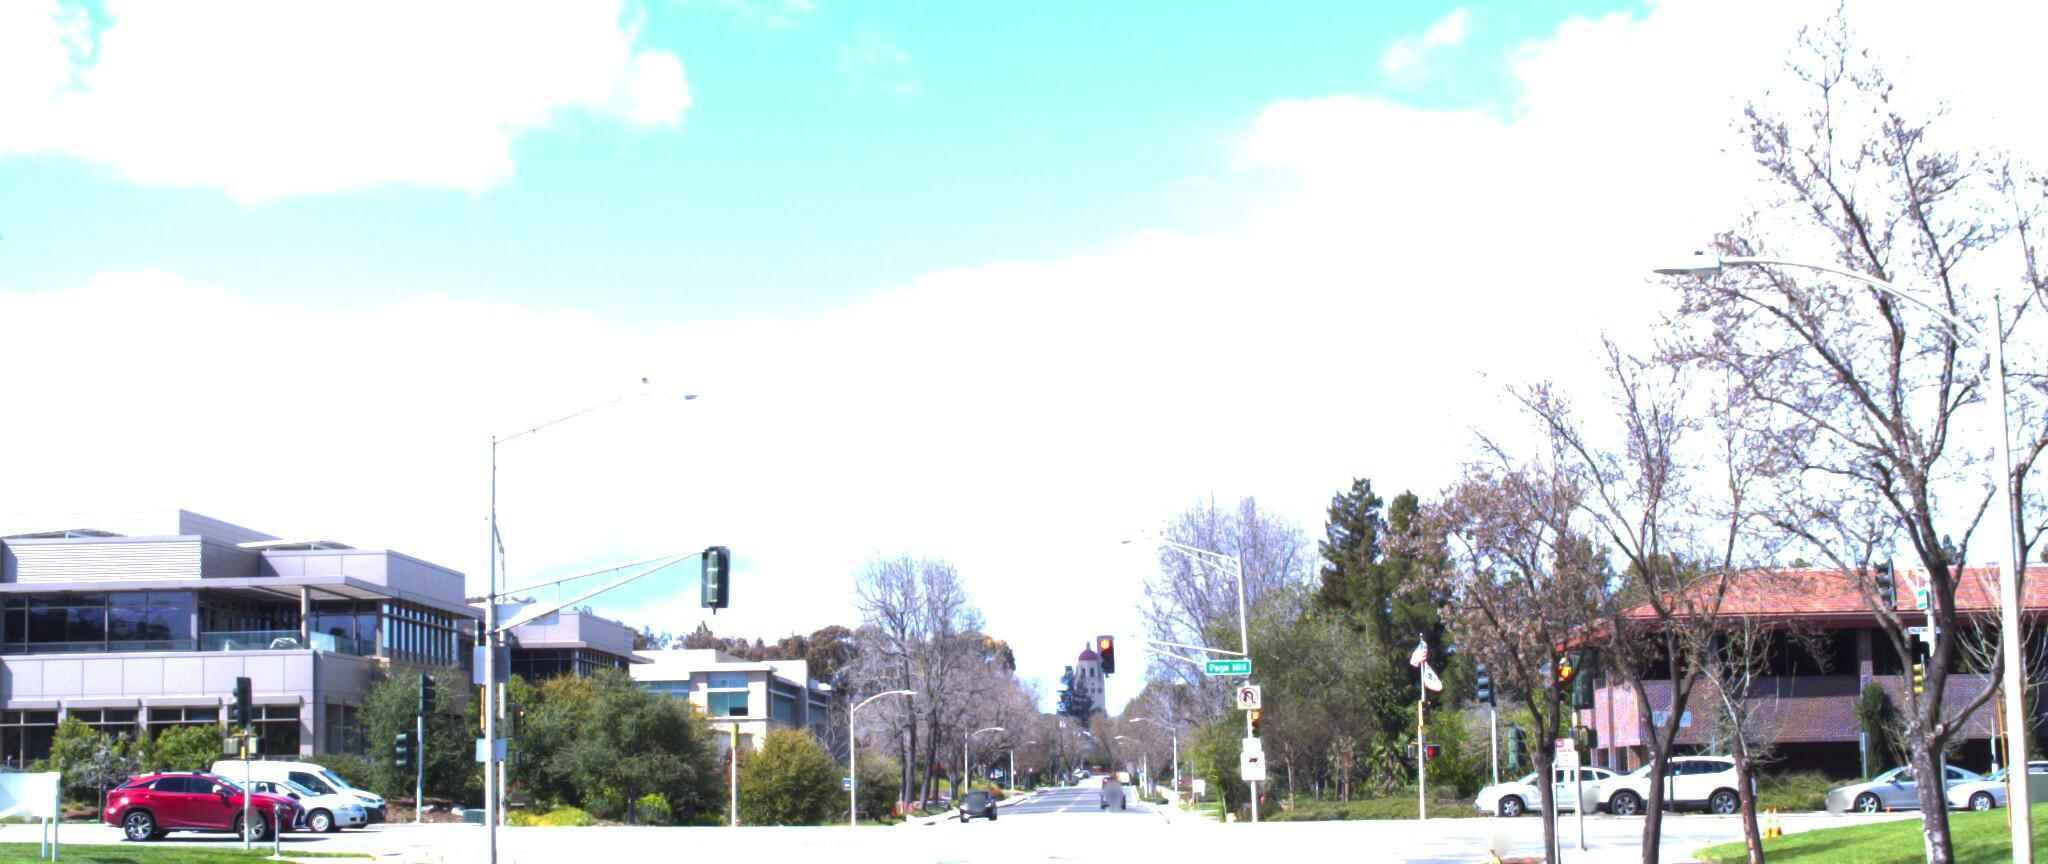car: (101, 762, 315, 842), (219, 753, 413, 827), (1575, 744, 1762, 814), (1468, 758, 1635, 818)
